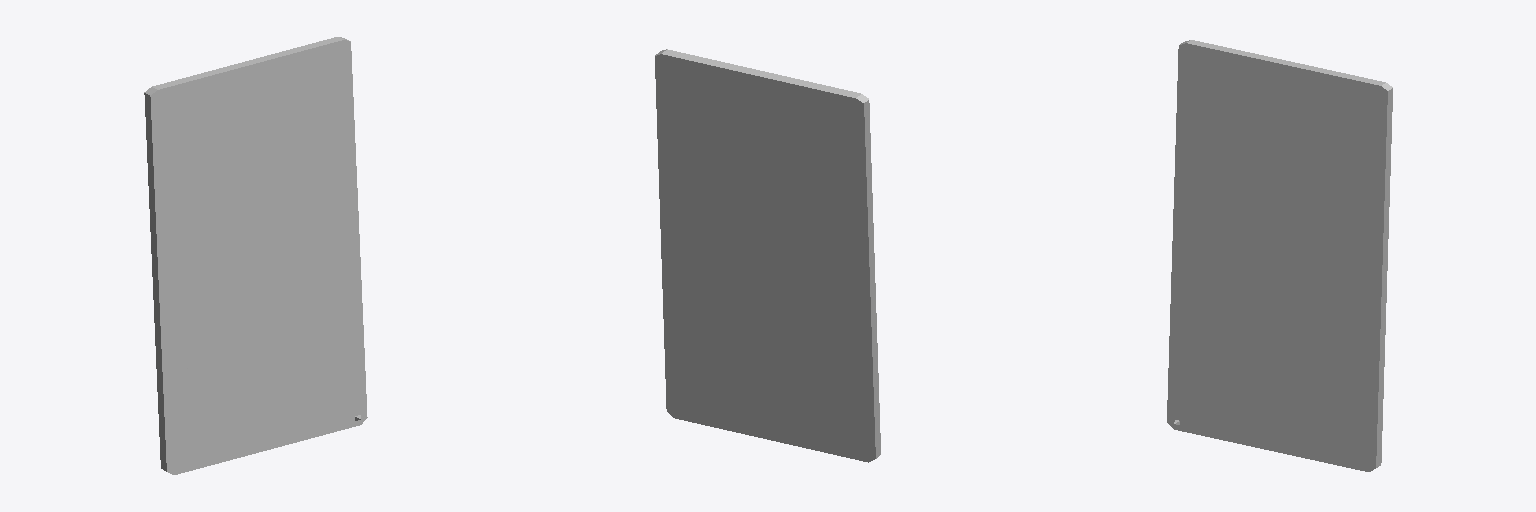
File: table6.obj
3 views of the same model, side by side, from view 1: azimuth 30°, elevation 25°; view 2: azimuth 150°, elevation 25°; view 3: azimuth 330°, elevation 25° (orthographic).
Parts seen in each view (by area): view 1: Cube; view 2: Cube; view 3: Cube.
Boxes of the visible parts, <box> form: Cube: <box>144,37,367,474</box>; Cube: <box>655,49,880,462</box>; Cube: <box>1167,40,1392,471</box>.
Size of the model in its own units: 106 by 184 by 21.39.